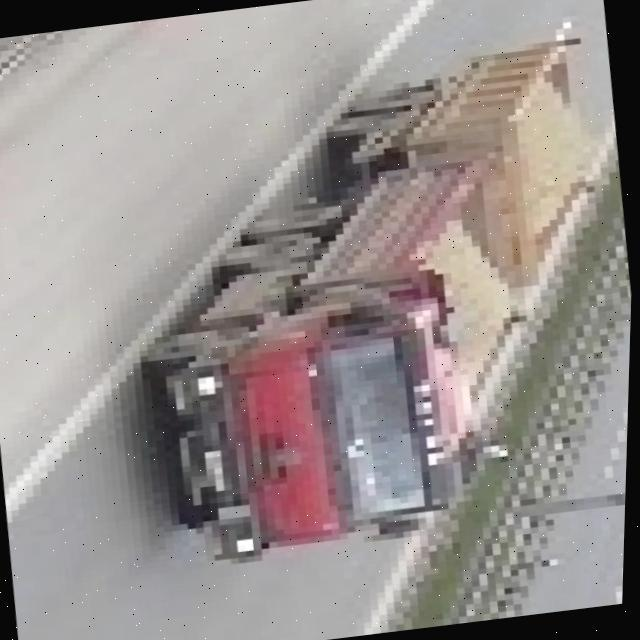truck: (120, 35, 639, 570)
